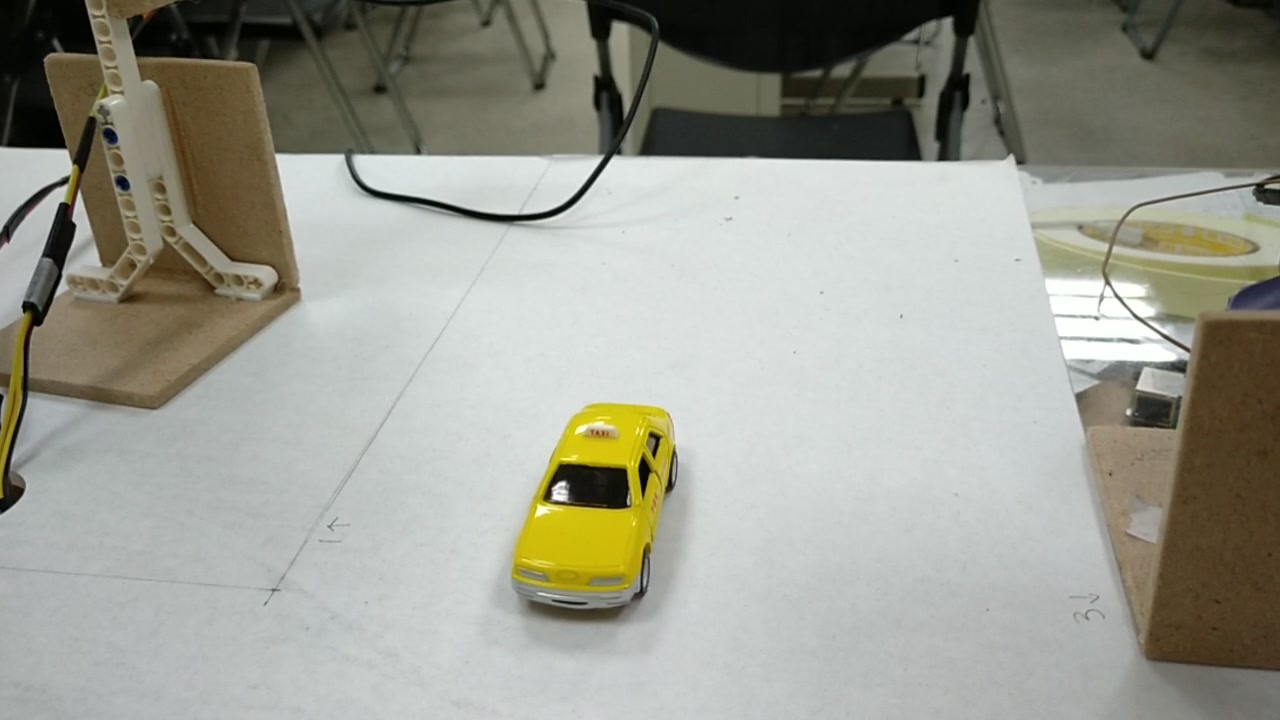car: (512, 401, 684, 615)
